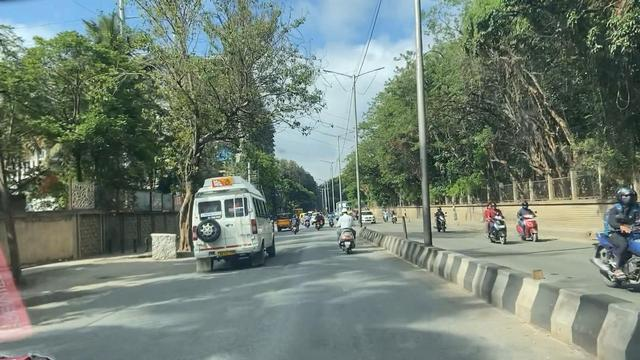HMV: (193, 176, 279, 265)
LMV: (335, 204, 363, 253)
